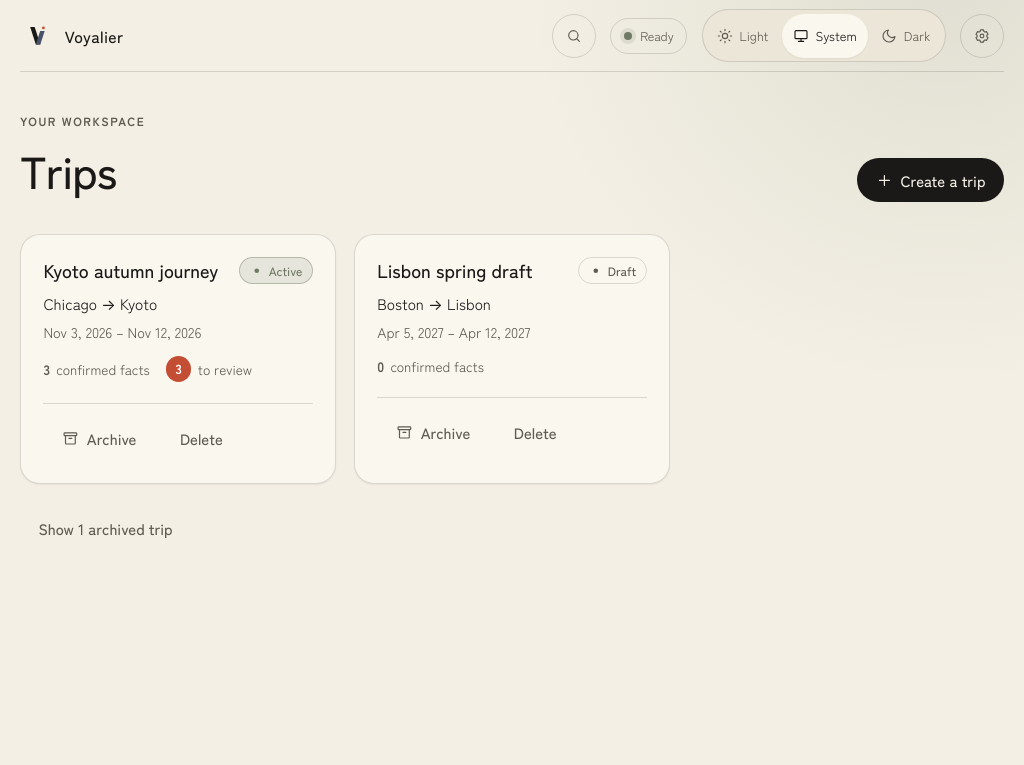
Scenario: concierge save recovery › retains a rejected Wallet label draft and clears it only after a successful retry
Click the button with aria-label "Open Kyoto autumn journey".
click(131, 270)  # box [43,257,218,283]
(page scrolled)
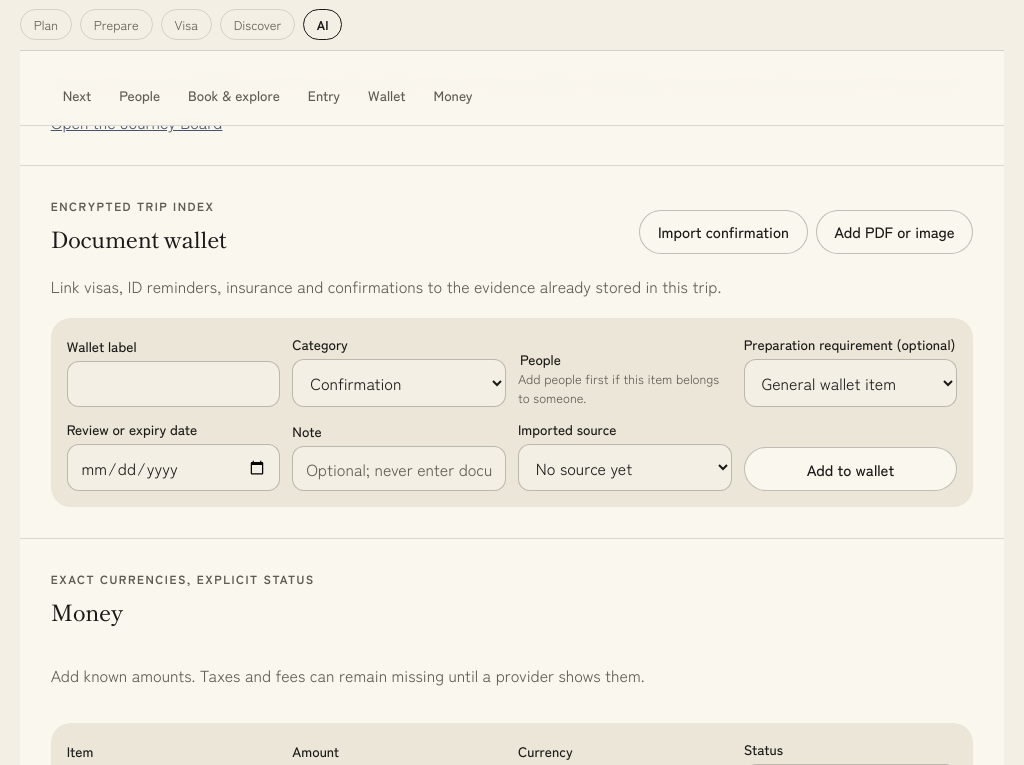
Type "Return permission" into the field labelled "Wallet label".
click(174, 384); type("Return permission")  # box [67,361,280,407]
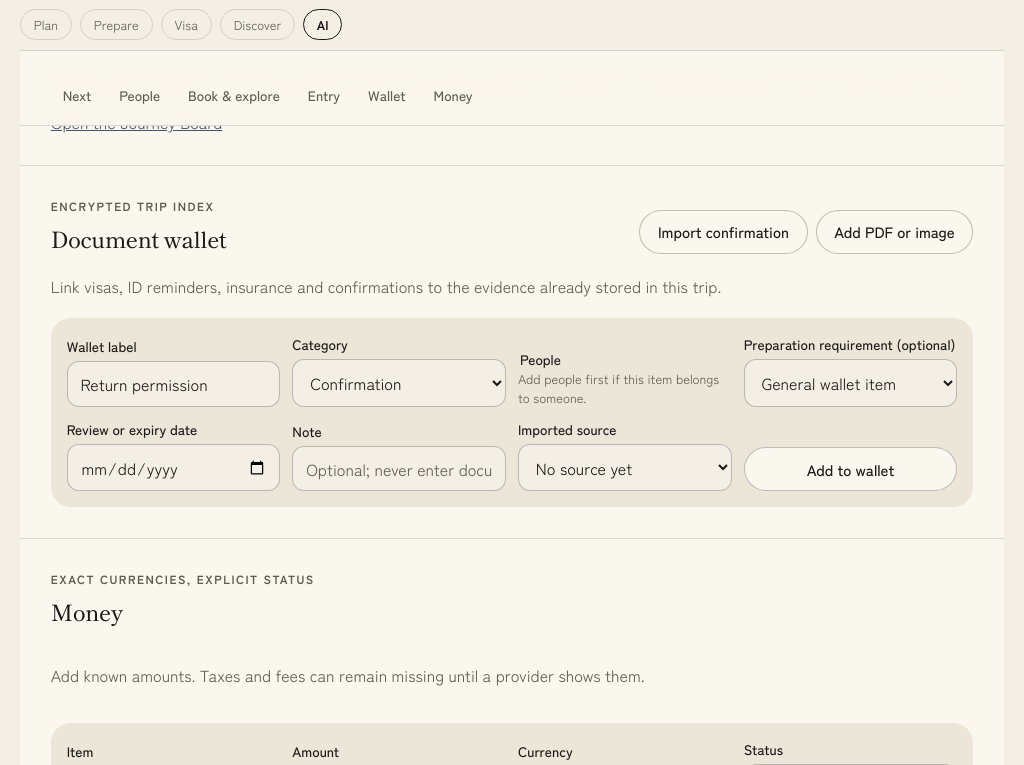
Submit the form "Wallet label", box [51,318,973,507]
(page scrolled)
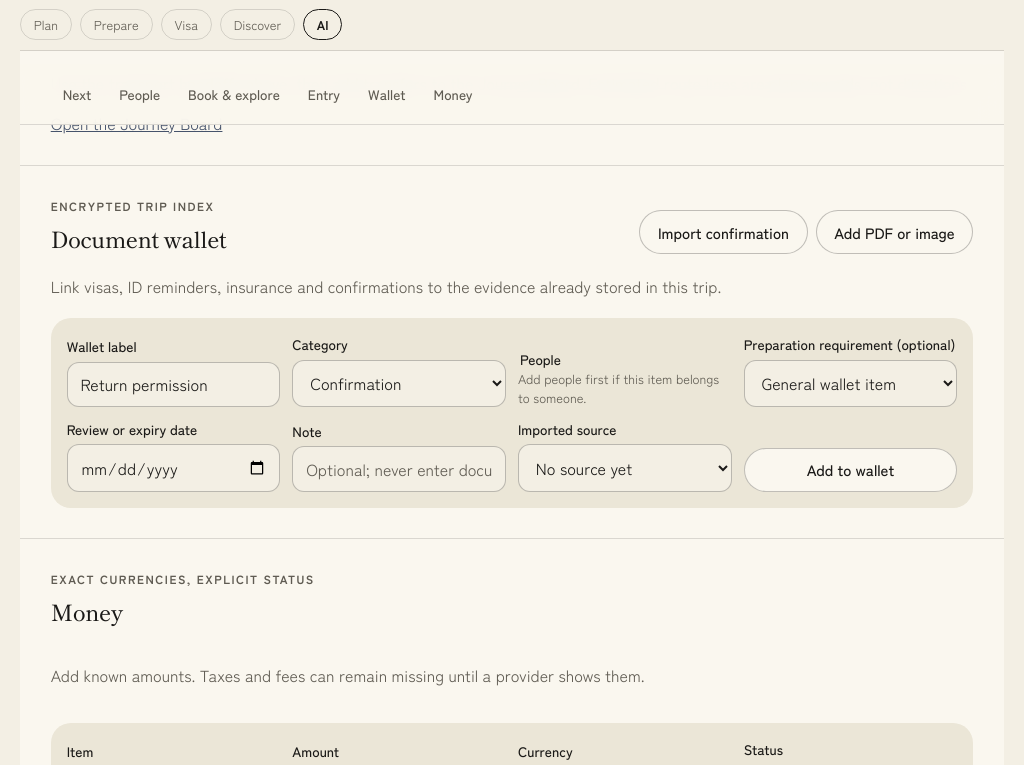
Submit the form "Wallet label", box [51,318,973,508]
(page scrolled)
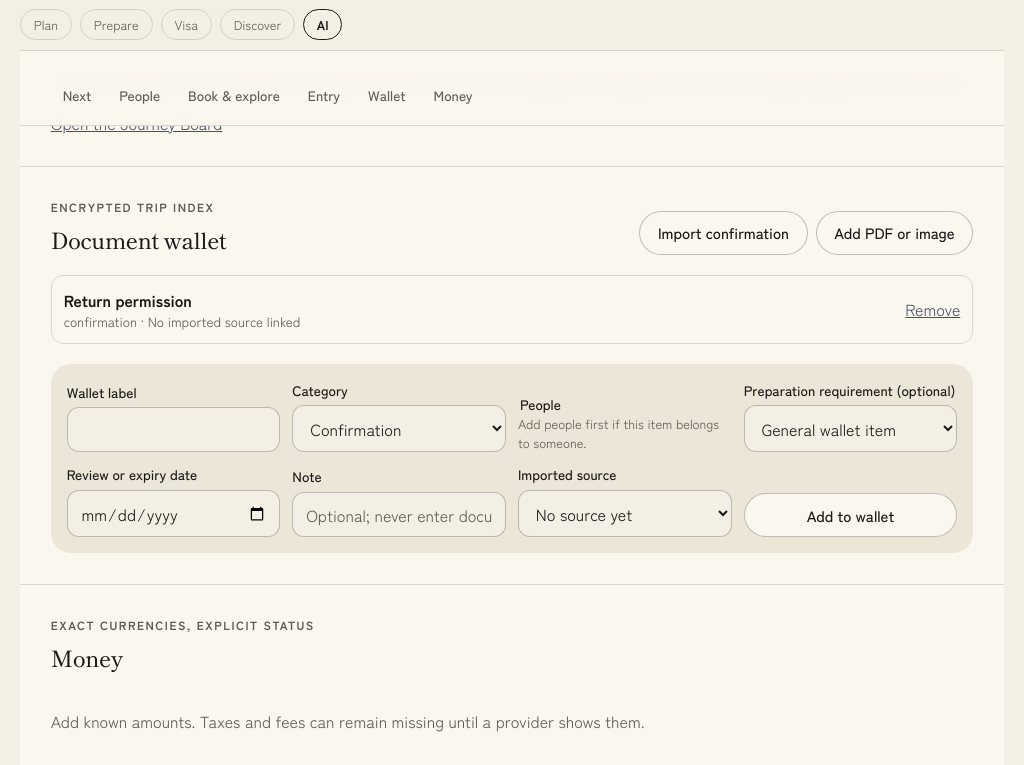
Expected: the button "Add to wallet" is shown, [744,493,957,537]
Expected: the field labelled "Wallet label" is empty, [67,407,280,452]
